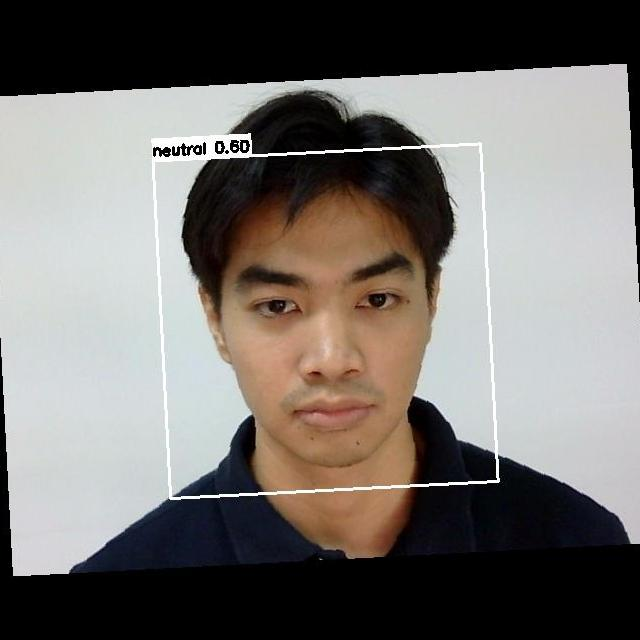Natural: (222, 254, 433, 446)
